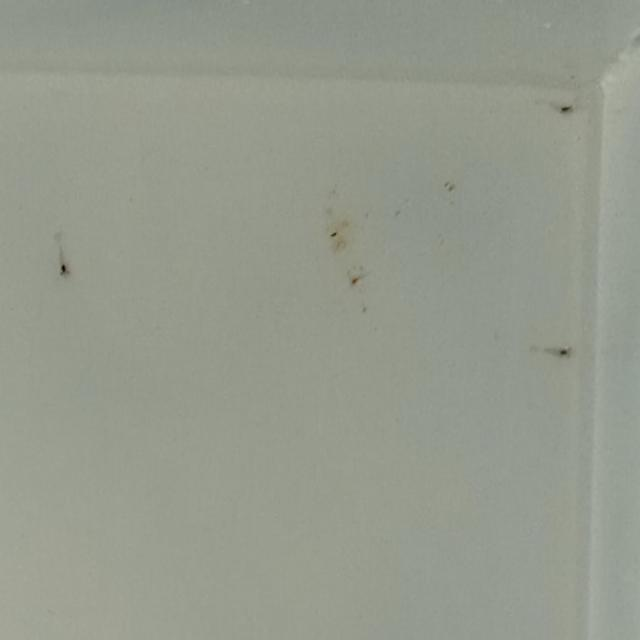shrimp-seed: (548, 342, 576, 364), (556, 96, 578, 118), (56, 254, 73, 280)
